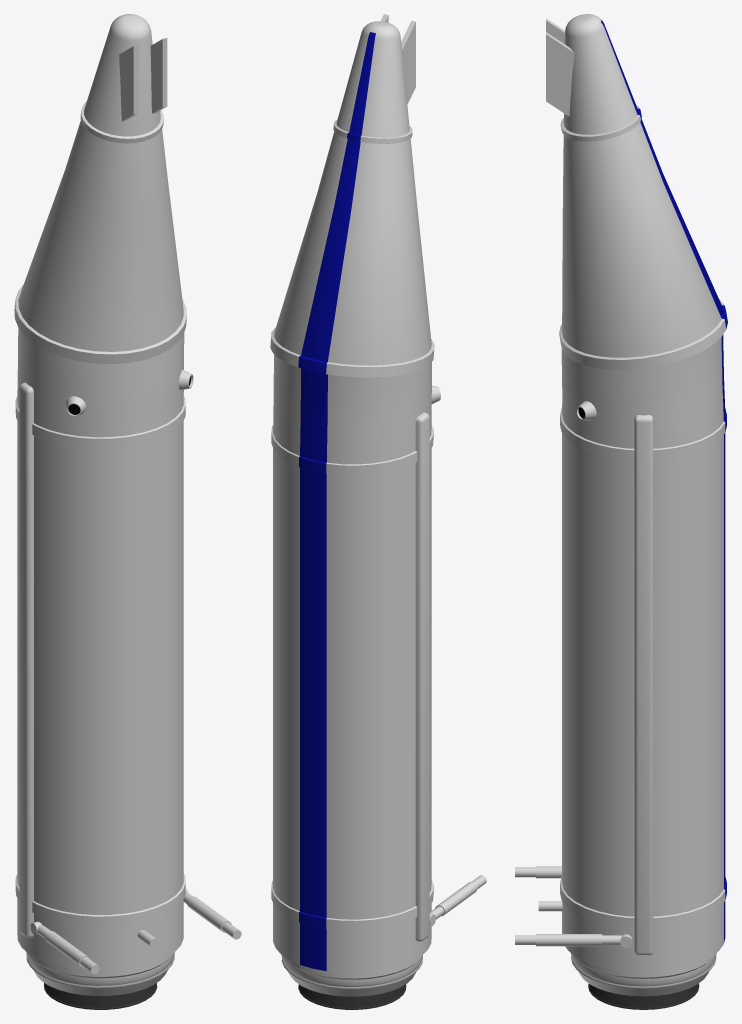
File: ariane_64-booster.gltf
3 views of the same model, side by side, from view 1: azimuth 30°, elevation 25°; view 2: azimuth 150°, elevation 25°; view 3: azimuth 270°, elevation 25° (orthographic). The views are drawn at different scales.
Visible parts, largest first — view 1: Booster.001_4.001; view 2: Booster.001_4.001; view 3: Booster.001_4.001.
Boxes of the visible parts, x1,y1,x2,y2 form: Booster.001_4.001: [14, 14, 241, 1009]; Booster.001_4.001: [270, 14, 486, 1009]; Booster.001_4.001: [515, 14, 727, 1009].
Size of the model in its own units: 0.0596 by 0.3624 by 0.0721.
